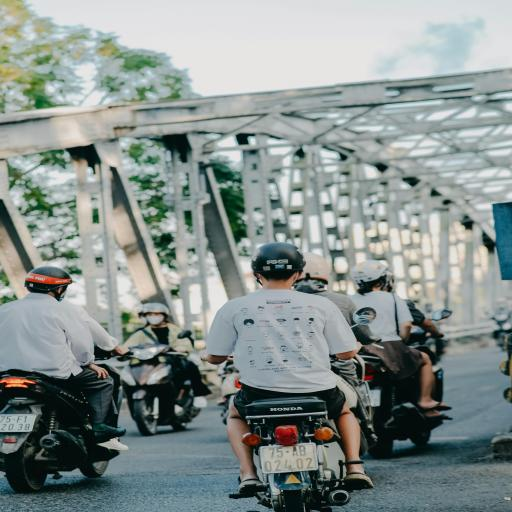place: (261, 446, 316, 470), (0, 414, 34, 434)
